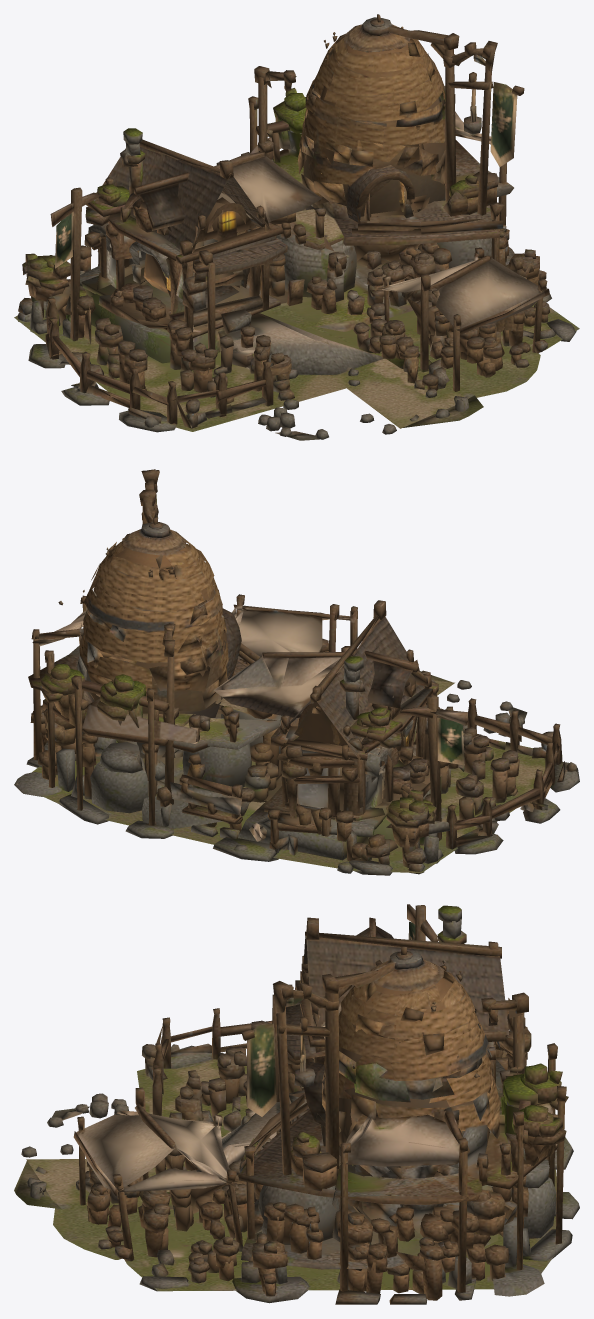
Rendered from green valley imker-web.glb.
3 views of the same model, one above another, from view 1: azimuth 30°, elevation 25°; view 2: azimuth 150°, elevation 25°; view 3: azimuth 270°, elevation 25° (orthographic). The views are drawn at different scales.
Size of the model in its own units: 1 by 0.5254 by 0.9082.
1 material, 1 textured.
